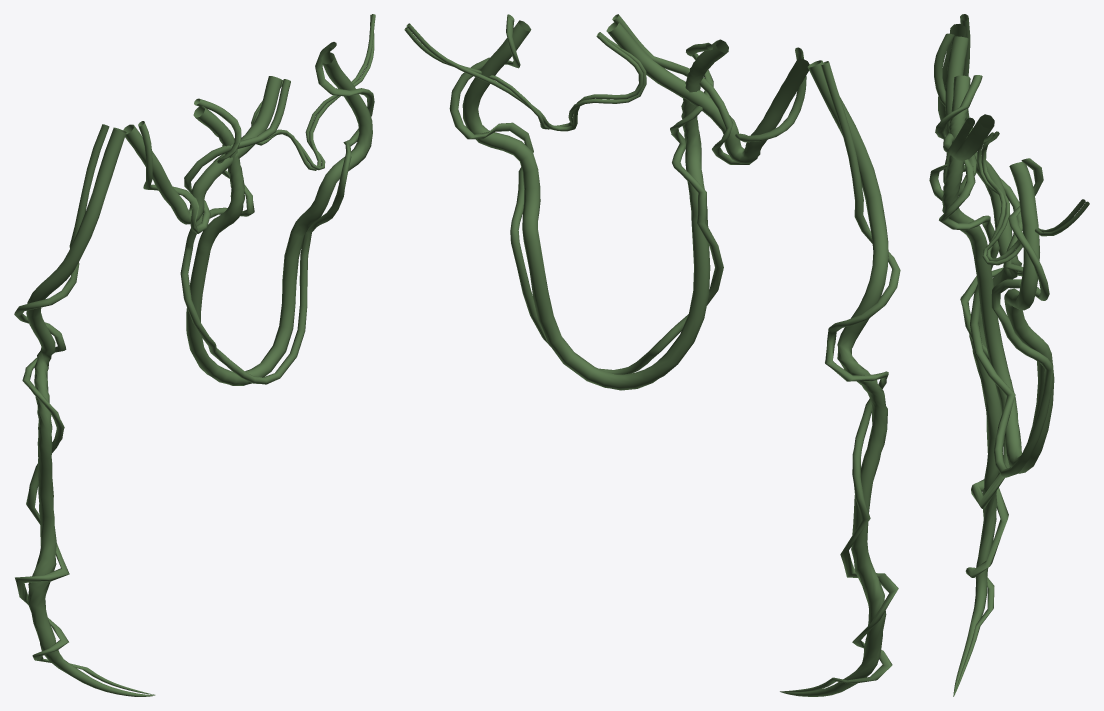
File: m_arena_vine_mesh.fbx
3 renders of one model, left to right at view 1: azimuth 30°, elevation 25°; view 2: azimuth 150°, elevation 25°; view 3: azimuth 270°, elevation 25°, orthographic. The views are drawn at different scales.
Visible parts, largest first — view 1: m_arena_vine_mesh_01, m_arena_vine_mesh_02, m_arena_vine_mesh, m_arena_vine_mesh_03; view 2: m_arena_vine_mesh_01, m_arena_vine_mesh_02, m_arena_vine_mesh, m_arena_vine_mesh_03; view 3: m_arena_vine_mesh_01, m_arena_vine_mesh_02, m_arena_vine_mesh, m_arena_vine_mesh_03.
Part boxes in pixels (bbox=[...]): m_arena_vine_mesh_01: bbox=[180, 42, 374, 385]; m_arena_vine_mesh_02: bbox=[14, 124, 155, 696]; m_arena_vine_mesh: bbox=[123, 76, 290, 233]; m_arena_vine_mesh_03: bbox=[251, 14, 375, 170]; m_arena_vine_mesh_01: bbox=[449, 14, 728, 390]; m_arena_vine_mesh_02: bbox=[780, 60, 900, 696]; m_arena_vine_mesh: bbox=[606, 14, 809, 164]; m_arena_vine_mesh_03: bbox=[404, 23, 646, 131]; m_arena_vine_mesh_01: bbox=[935, 75, 1054, 477]; m_arena_vine_mesh_02: bbox=[938, 14, 1023, 696]; m_arena_vine_mesh: bbox=[929, 33, 994, 200]; m_arena_vine_mesh_03: bbox=[977, 131, 1089, 265].
Bounding box in the file's own units: 3380 × 4670 × 1033.
